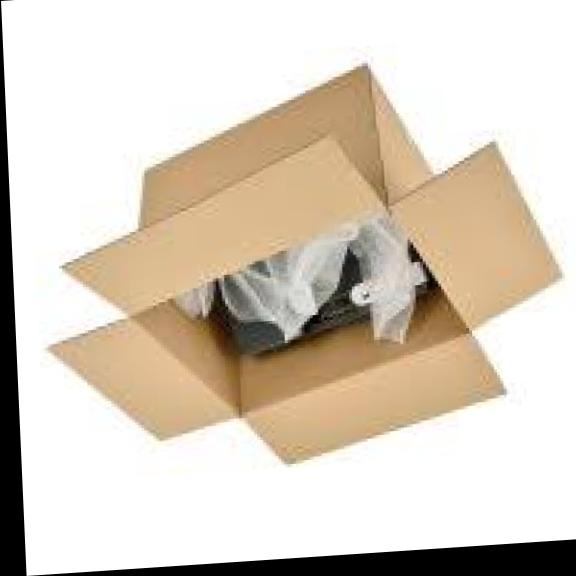Kertas: (53, 71, 558, 463), (172, 211, 440, 359)
